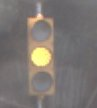Yellow: (22, 9, 60, 102)
